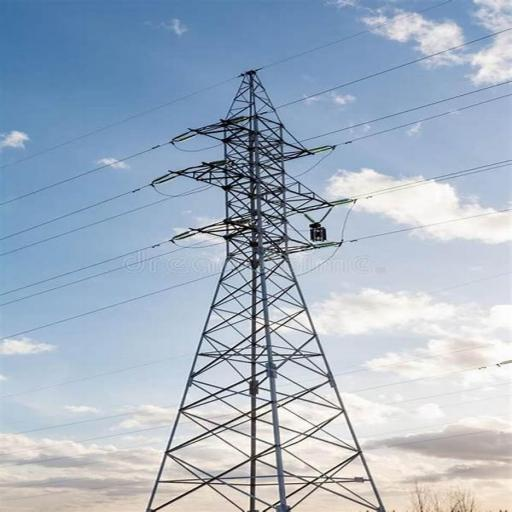ss_3: (144, 65, 393, 511)
